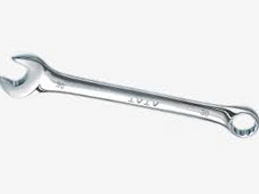wrench: (1, 45, 259, 142)
